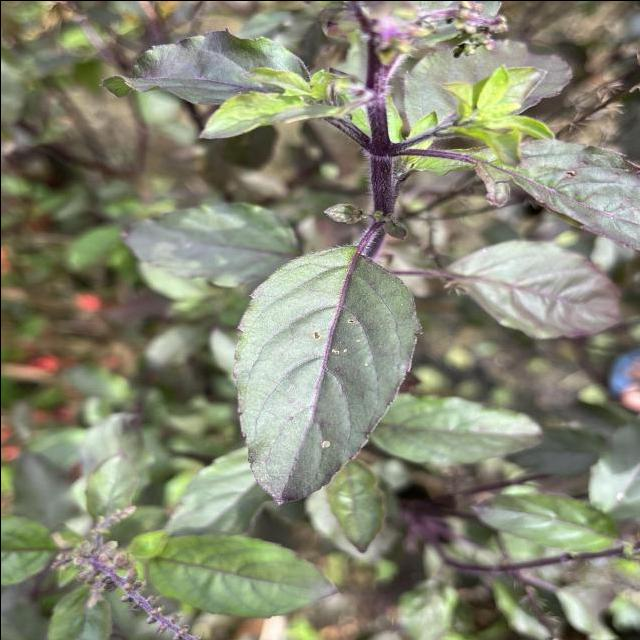Ocimum tenuiflorum: (228, 245, 424, 507)
